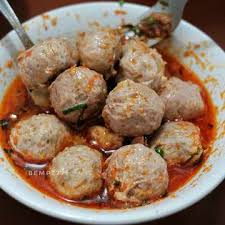bakso: (19, 27, 189, 199)
